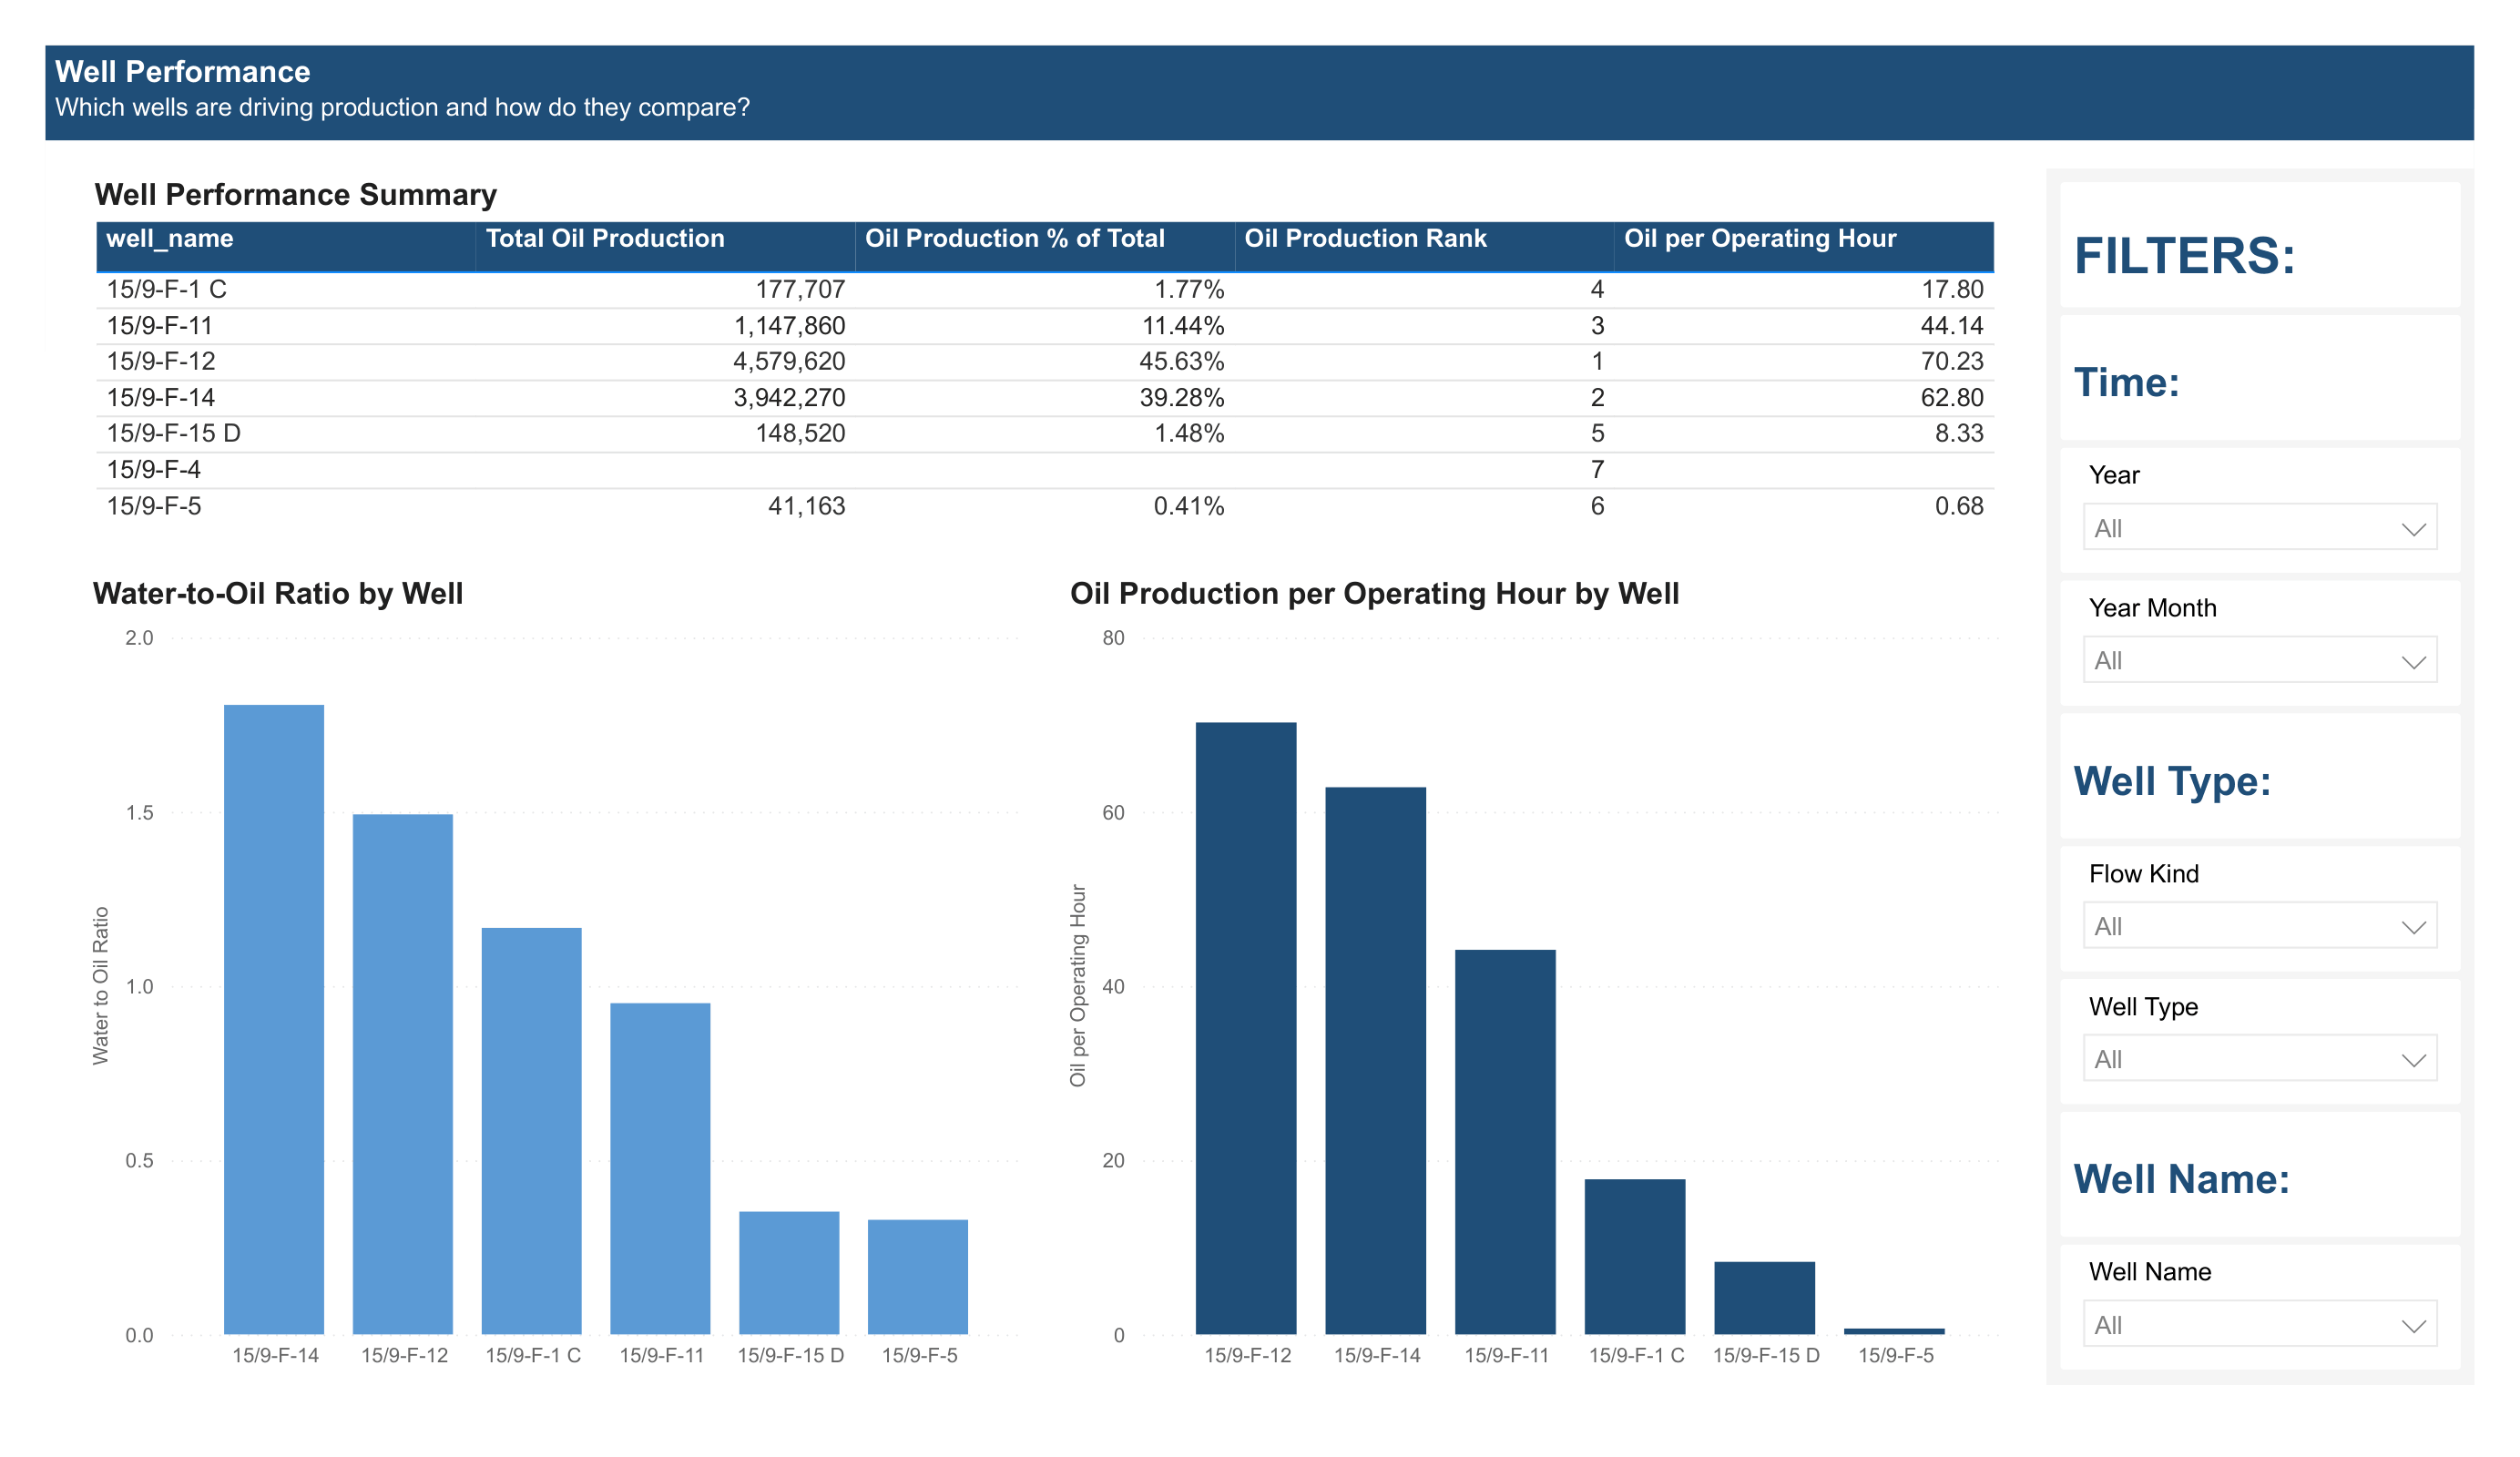

The dashboard page shown, as its layout file describes it:
{"tool":"powerbi","page":{"name":"Well Performance","canvas":[1280,720],"ordinal":1},"visuals":[{"type":"clusteredColumnChart","title":"Oil Production per Operating Hour by Well","fields":{"Category":["dim_well.well_name"],"Y":["fact_production.Oil per Operating Hour"]},"box":[535,280,500,425],"z":0},{"type":"clusteredColumnChart","title":"Water-to-Oil Ratio by Well","fields":{"Category":["dim_well.well_name"],"Y":["fact_production.Water to Oil Ratio"]},"box":[20,280,500,425],"z":1000},{"type":"tableEx","title":"Well Performance Summary","fields":{"Values":["dim_well.well_name","fact_production.Total Oil Production","fact_production.Oil Production % of Total","fact_production.Oil Production Rank","fact_production.Oil per Operating Hour"]},"box":[20.6,70,1014.1,200],"z":2000},{"type":"textbox","box":[0,0,1280.3,50],"z":3000},{"type":"shape","box":[1055,65,225,640.8],"z":4000},{"type":"slicer","fields":{"Values":["dim_date.year"]},"box":[1060,210,215,70],"z":5000},{"type":"slicer","fields":{"Values":["fact_production.flow_kind"]},"box":[1060,420,215,70],"z":6000},{"type":"slicer","fields":{"Values":["fact_production.well_type"]},"box":[1060,490,215,70],"z":7000},{"type":"slicer","fields":{"Values":["dim_well.well_name"]},"box":[1060,630,215,70],"z":8000},{"type":"textbox","box":[1060,70,215,70],"z":9000},{"type":"textbox","box":[1060,140,215,70],"z":10000},{"type":"slicer","fields":{"Values":["dim_date.Year Month Text"]},"box":[1060,280,215,70],"z":11000},{"type":"textbox","box":[1060,350,215,70],"z":12000},{"type":"textbox","box":[1060,560,215,70],"z":13000}]}

Visuals, with their boxes on the page's 1280x720 design canvas (x1, y1, x2, y2). These are canvas units, not pixel positions in the 2520x1457 screenshot, which may show the page scaled, cropped or inside an application window:
"Oil Production per Operating Hour by Well" clusteredColumnChart: (left=535, top=280, right=1035, bottom=705)
"Water-to-Oil Ratio by Well" clusteredColumnChart: (left=20, top=280, right=520, bottom=705)
"Well Performance Summary" tableEx: (left=21, top=70, right=1035, bottom=270)
textbox: (left=0, top=0, right=1280, bottom=50)
shape: (left=1055, top=65, right=1280, bottom=706)
slicer - dim_date.year: (left=1060, top=210, right=1275, bottom=280)
slicer - fact_production.flow_kind: (left=1060, top=420, right=1275, bottom=490)
slicer - fact_production.well_type: (left=1060, top=490, right=1275, bottom=560)
slicer - dim_well.well_name: (left=1060, top=630, right=1275, bottom=700)
textbox: (left=1060, top=70, right=1275, bottom=140)
textbox: (left=1060, top=140, right=1275, bottom=210)
slicer - dim_date.Year Month Text: (left=1060, top=280, right=1275, bottom=350)
textbox: (left=1060, top=350, right=1275, bottom=420)
textbox: (left=1060, top=560, right=1275, bottom=630)
